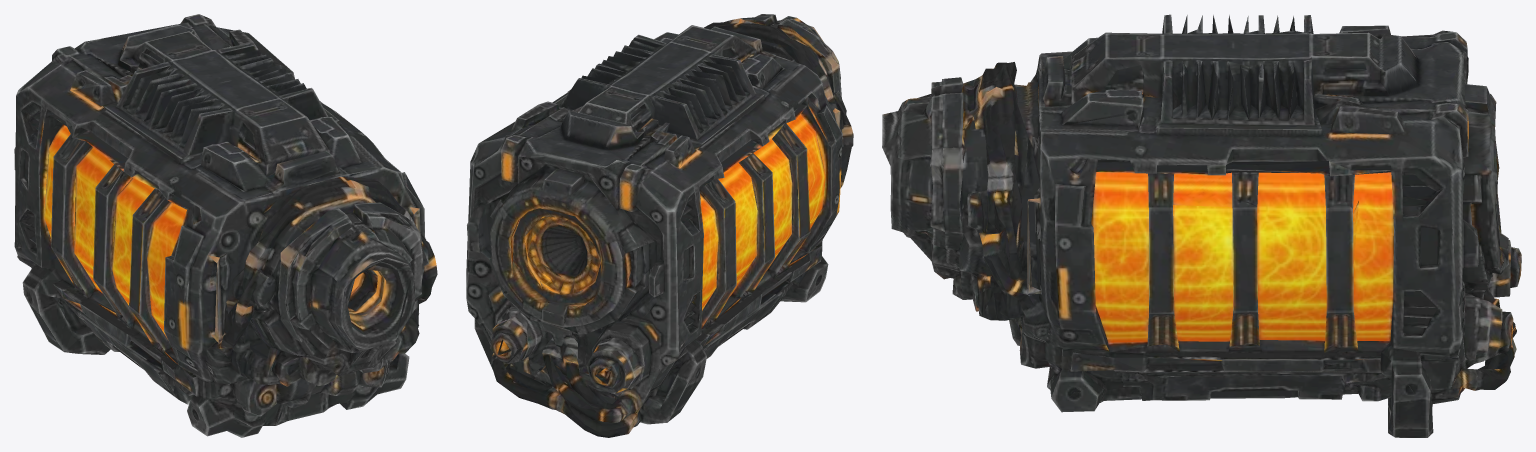
File: gen-speed.glb
3 renders of one model, left to right at view 1: azimuth 30°, elevation 25°; view 2: azimuth 150°, elevation 25°; view 3: azimuth 270°, elevation 25°, orthographic. The views are drawn at different scales.
Parts seen in each view (by area): view 1: gen-speed; view 2: gen-speed; view 3: gen-speed.
Part boxes in pixels (bbox=[...]): gen-speed: bbox=[14, 14, 437, 437]; gen-speed: bbox=[466, 14, 853, 437]; gen-speed: bbox=[882, 14, 1521, 437].
Size of the model in its own units: 2.51 by 3 by 4.92.
Materials: 1 (1 with a texture image).
